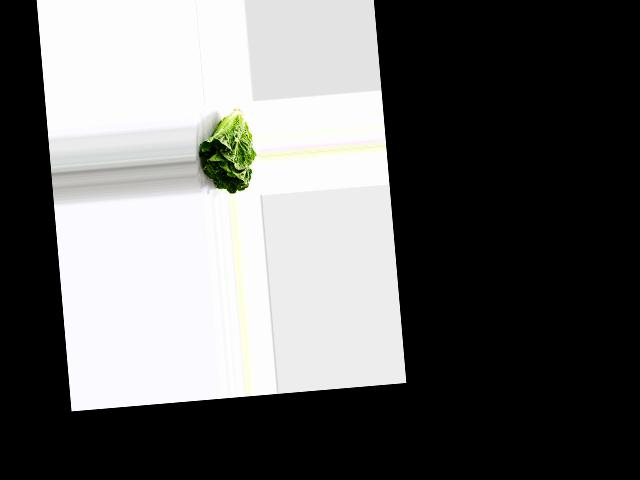lettuce: (194, 109, 260, 195)
